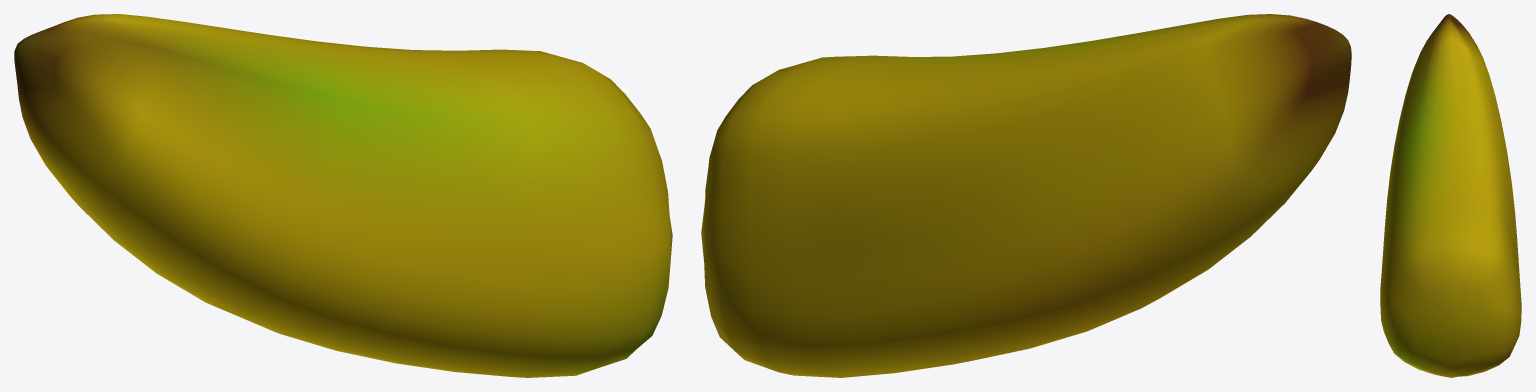
Rendered from banana_bot.fbx.
The picture shows the model from 3 angles, left to right: view 1: azimuth 30°, elevation 25°; view 2: azimuth 150°, elevation 25°; view 3: azimuth 270°, elevation 25°; orthographic projection. The views are drawn at different scales.
Parts seen in each view (by area): view 1: Cube; view 2: Cube; view 3: Cube.
Boxes of the visible parts, x1,y1,x2,y2 form: Cube: [14, 14, 672, 377]; Cube: [701, 14, 1351, 377]; Cube: [1380, 14, 1521, 377].
Size of the model in its own units: 604 by 424 by 235.
